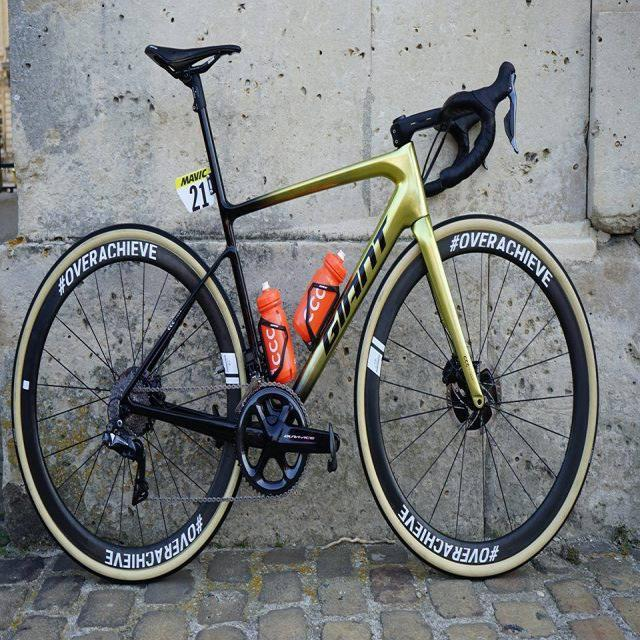Bicycle: (14, 37, 620, 590)
